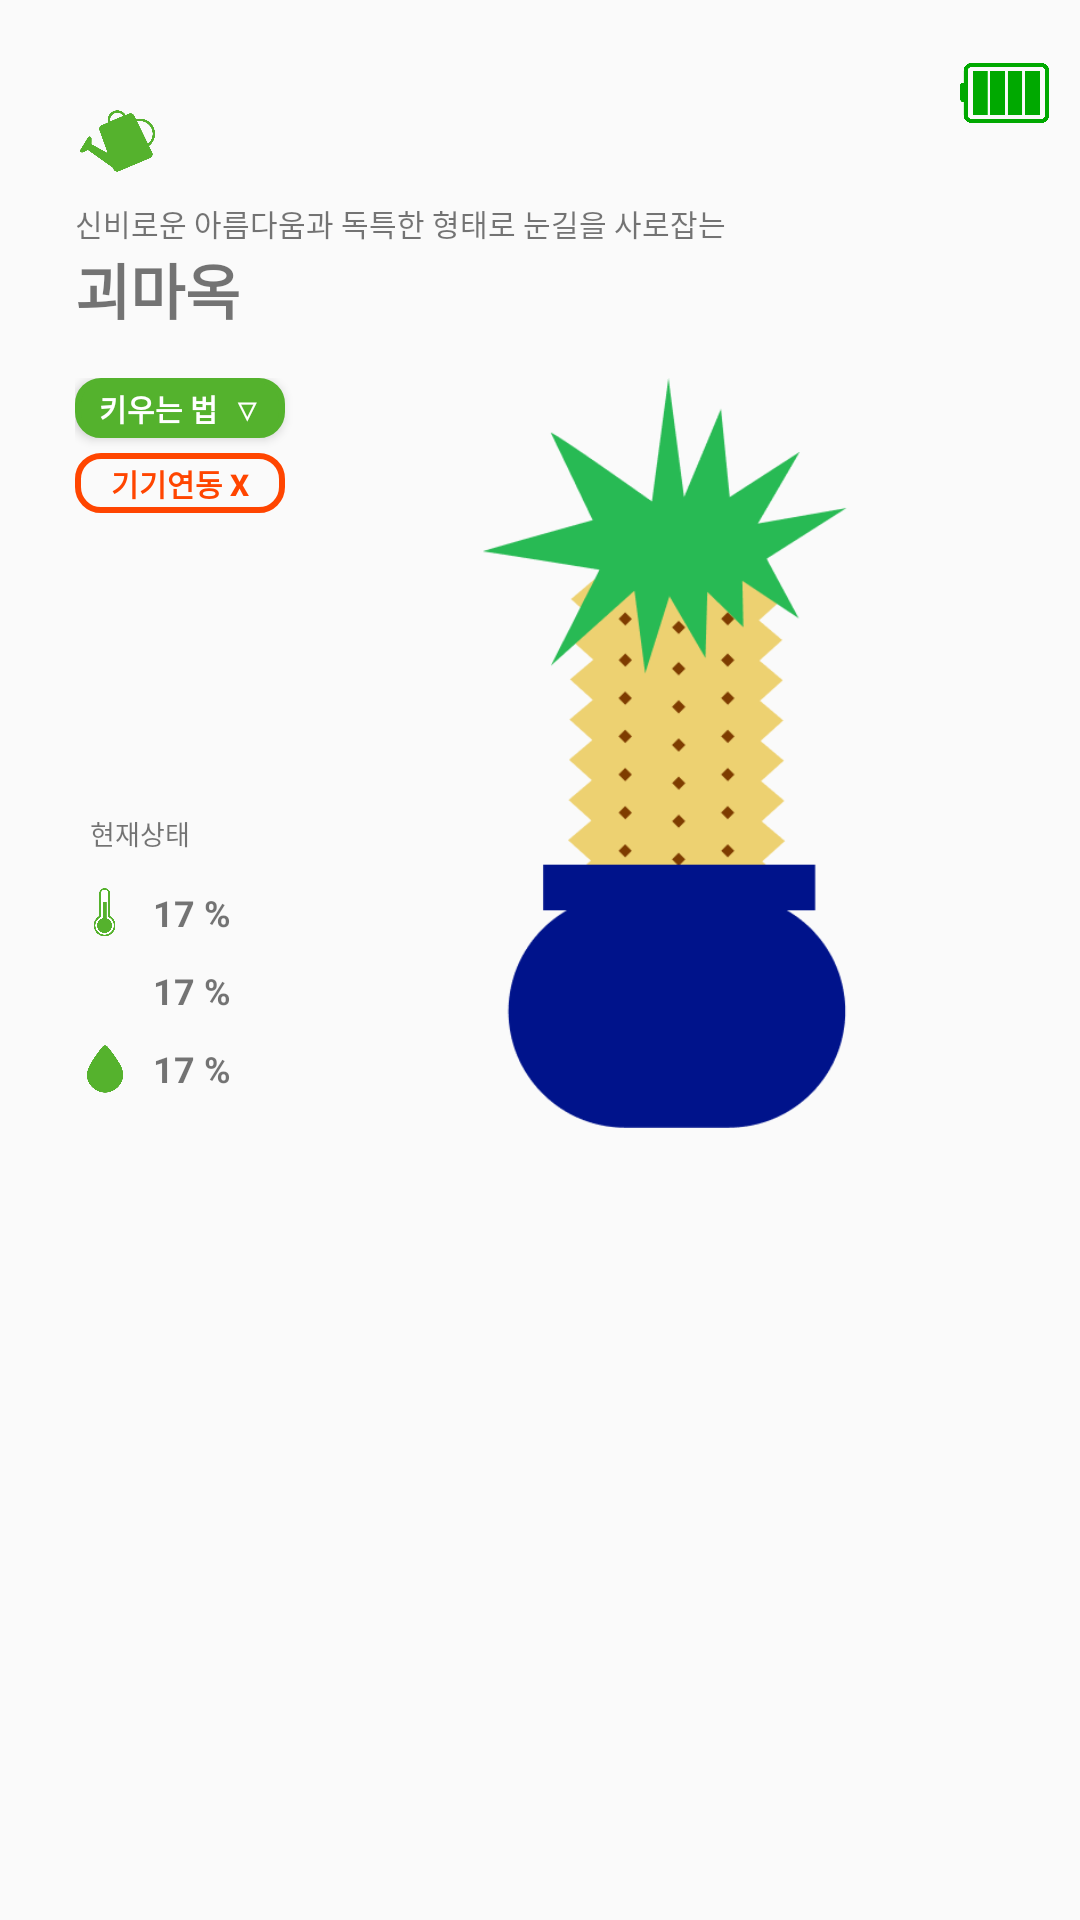

Point at icon controls on the screen. Image size 1080×1920, points as [x,y].
bat max: [1004,93]
thermometer: [104,912]
